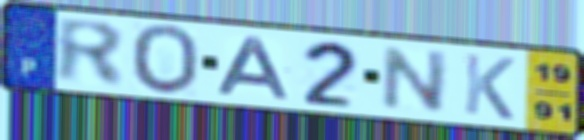2: (296, 37, 364, 112)
A: (214, 35, 295, 102)
K: (461, 51, 518, 123)
N: (378, 44, 453, 115)
O: (129, 22, 203, 97)
R: (54, 15, 129, 90)
